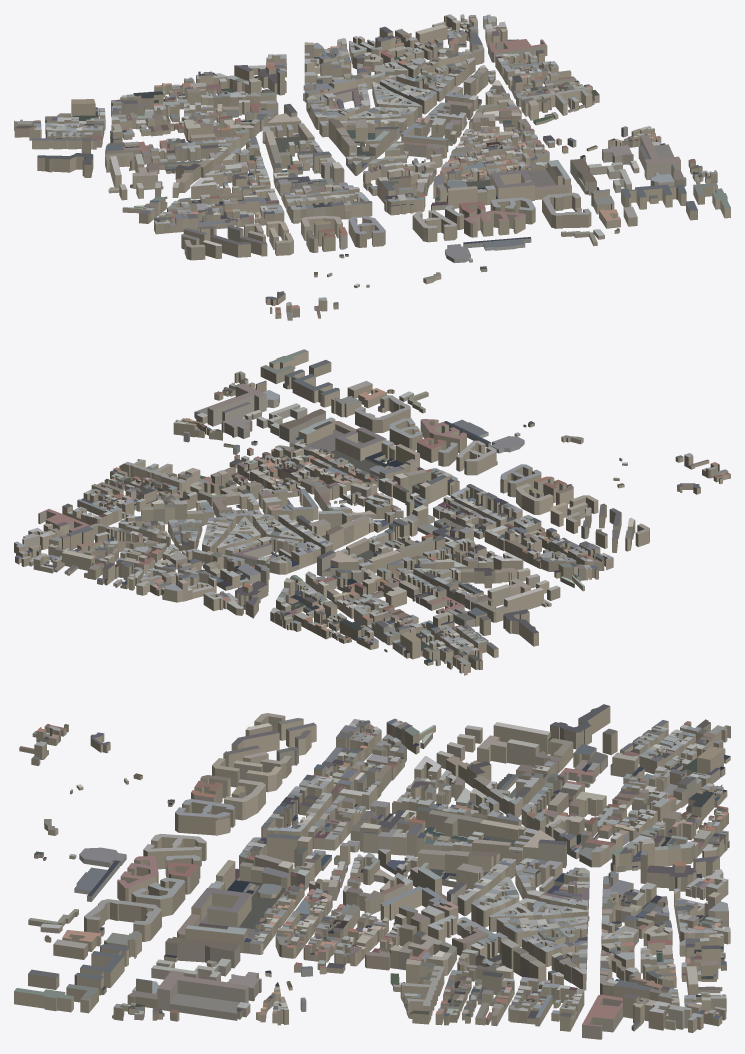
3 renders of one model, top to bottom at view 1: azimuth 30°, elevation 25°; view 2: azimuth 150°, elevation 25°; view 3: azimuth 270°, elevation 25°, orthographic. The views are drawn at different scales.
Visible parts, largest first — view 1: tuile; view 2: tuile; view 3: tuile.
Boxes of the visible parts, <box> form: tuile: <box>14,14,730,320</box>; tuile: <box>14,349,730,675</box>; tuile: <box>14,704,730,1039</box>.
Bounding box in the file's own units: 1088 × 53.91 × 1038.
